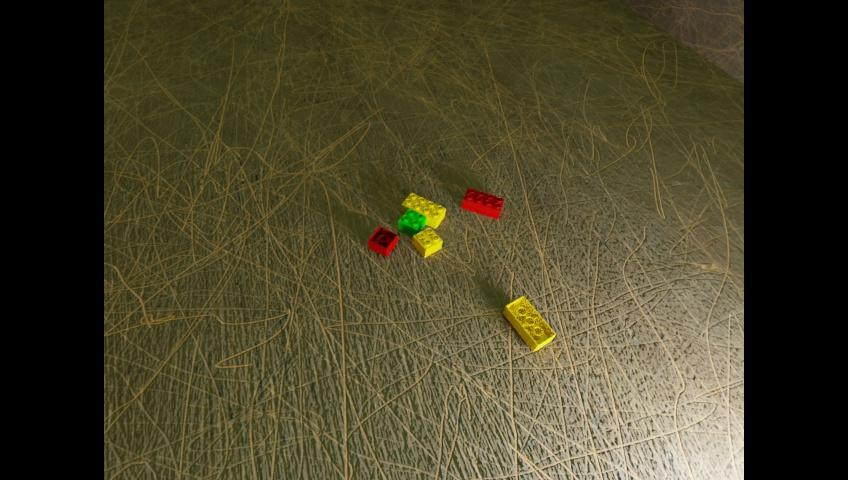2x2_green: (398, 208, 425, 236)
2x2_red: (368, 225, 396, 256)
2x2_yellow: (412, 227, 441, 257)
4x2_red: (462, 187, 503, 219)
4x2_yellow: (502, 295, 555, 351), (401, 192, 444, 228)
